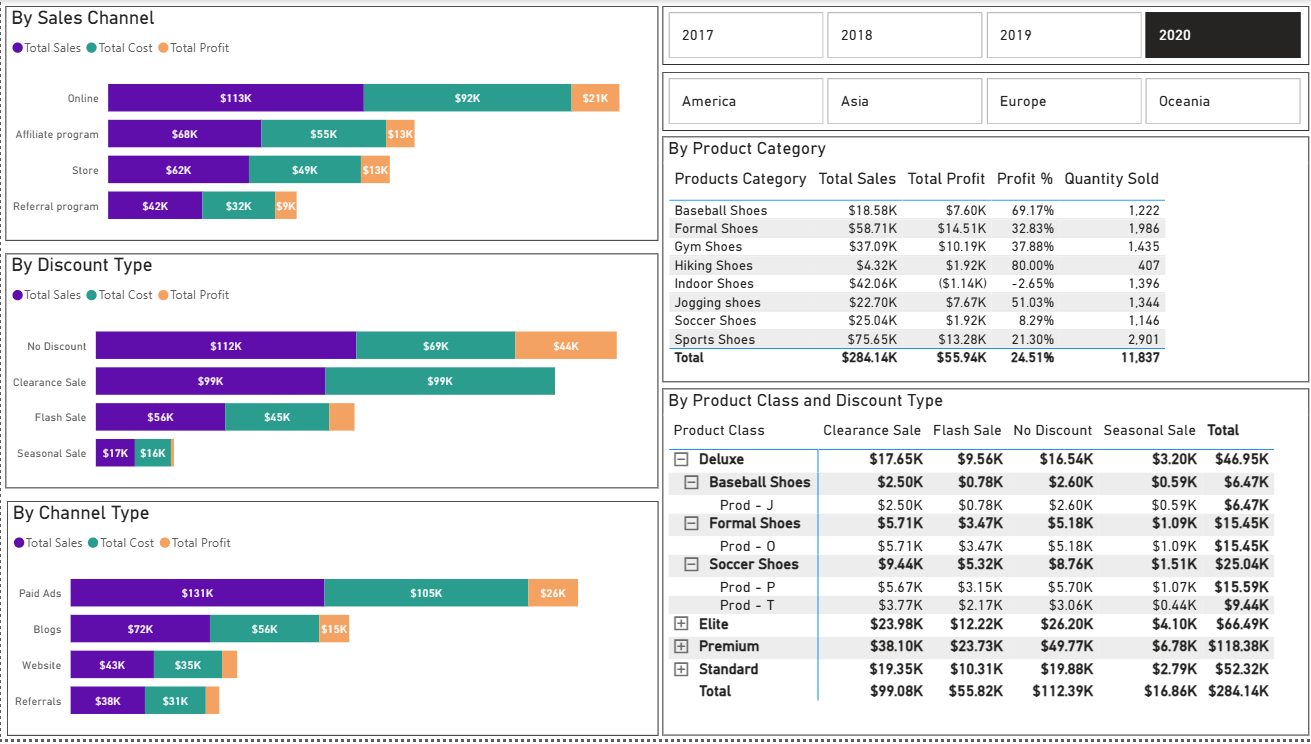

Layout of this report page (visuals, bound fields, positions):
{"tool":"powerbi","page":{"name":"Sales Performance Analysis","canvas":[1280,720],"ordinal":1},"visuals":[{"type":"barChart","title":"By Sales Channel","fields":{"Y":["Sales Data.Total Sales","Sales Data.Total Cost","Sales Data.Total Profit"],"Category":["Sales Channel Details.Sales Channel"]},"box":[4.5,6.1,636,228.6],"z":0},{"type":"barChart","title":"By Discount Type","fields":{"Y":["Sales Data.Total Sales","Sales Data.Total Cost","Sales Data.Total Profit"],"Category":["Discount Details.Discount Type"]},"box":[4.5,246.8,636,228.6],"z":1000},{"type":"barChart","title":"By Channel Type","fields":{"Y":["Sales Data.Total Sales","Sales Data.Total Cost","Sales Data.Total Profit"],"Category":["Channel Type Details.Channel Type"]},"box":[6.1,487.6,634.5,228.6],"z":2000},{"type":"advancedSlicerVisual","fields":{"Values":["Calendar.Year"]},"box":[645.1,6.1,629.9,57.5],"z":3000},{"type":"advancedSlicerVisual","fields":{"Values":["Location Details.Geographic Region"]},"box":[645.1,69.7,629.9,57.5],"z":4000},{"type":"tableEx","title":"By Product Category","fields":{"Values":["Products Details.Products Category","Sales Data.Total Sales","Sales Data.Total Profit","Sales Data.Profit %","Sum(Sales Data.Quantity)"]},"box":[645.1,133.3,629.9,239.2],"z":5000},{"type":"pivotTable","title":"By Product Class and Discount Type","fields":{"Rows":["Products Details.Product Class","Products Details.Products Category","Products Details.Product Name"],"Columns":["Discount Details.Discount Type"],"Values":["Sales Data.Total Sales"]},"box":[645.1,378.6,629.9,337.7],"z":6000}]}

Visuals, with their boxes in screenshot pixels (x1, y1, x2, y2), scaled from the page's 1280x720 canvas onto the 1311x744 screenshot:
"By Sales Channel" barChart: box=[5, 6, 656, 243]
"By Discount Type" barChart: box=[5, 255, 656, 491]
"By Channel Type" barChart: box=[6, 504, 656, 740]
advancedSlicerVisual - Calendar.Year: box=[661, 6, 1306, 66]
advancedSlicerVisual - Location Details.Geographic Region: box=[661, 72, 1306, 131]
"By Product Category" tableEx: box=[661, 138, 1306, 385]
"By Product Class and Discount Type" pivotTable: box=[661, 391, 1306, 740]
